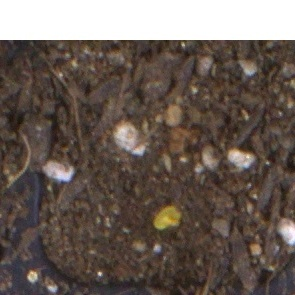chilli seed: (152, 204, 183, 231)
